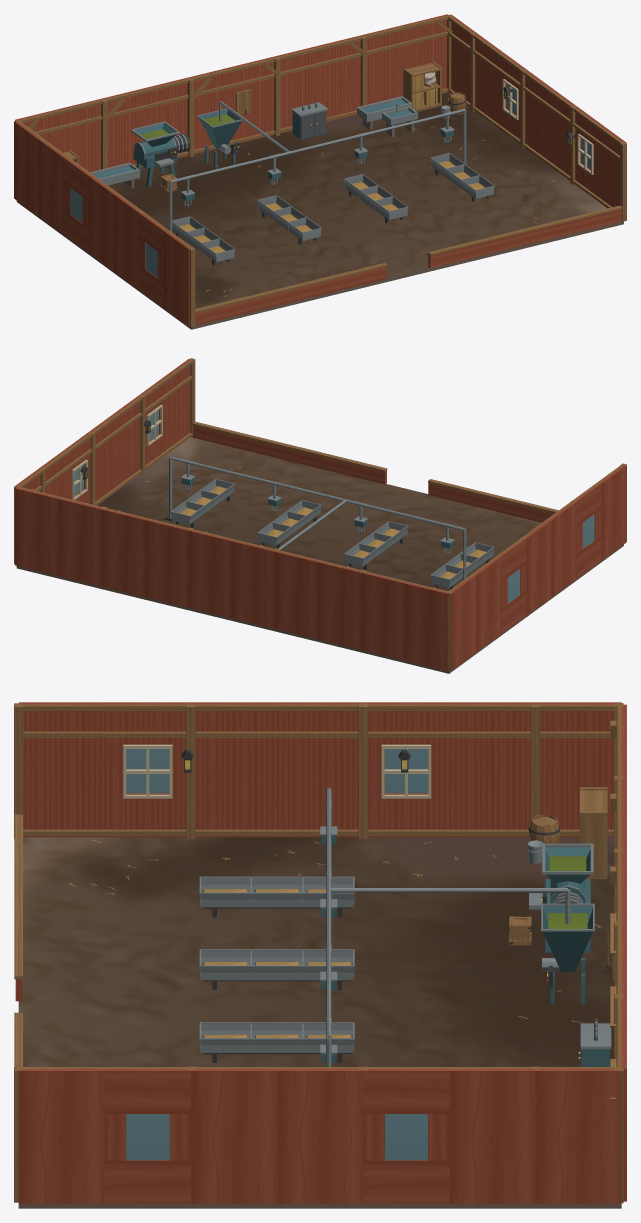
The model's file is BarnInterior_Lv3.fbx.
3 renders of one model, top to bottom at view 1: azimuth 30°, elevation 25°; view 2: azimuth 150°, elevation 25°; view 3: azimuth 270°, elevation 25°, orthographic. The views are drawn at different scales.
Visible parts, largest first — view 1: Lv3_Floor.001, Lv3_FrontCutaway.001, N01_Wall_2m.078, N01_Wall_2m.079, N01_Wall_2m.076, N01_Wall_2m.077, N01_Wall_2m.073, N01_Wall_2m.072, N03_LargeMotor.003, N01_Wall_2m.081, N01_Wall_2m.080, N01_Wall_2m.083 (+33 smaller); view 2: Lv3_Floor.001, Lv3_FrontCutaway.001, N01_Wall_2m.071, N01_Wall_2m.072, N01_Wall_2m.075, N01_Wall_2m.078, N01_Wall_2m.079, N01_Wall_2m.080, N01_Wall_2m.074, N01_Wall_2m.076, N01_Wall_2m.077, N01_Wall_2m.073 (+18 smaller); view 3: Lv3_Floor.001, N01_Wall_2m.086, N01_Wall_2m.089, N01_Wall_2m.088, N01_Wall_2m.087, N01_WindowWall_2m.022, N01_Wall_2m.090, N01_WindowWall_2m.021, N01_Wall_2m.082, N01_Wall_2m.081, N01_Wall_2m.084, N01_WindowWall_2m.019 (+19 smaller).
Part boxes in pixels (left/top/right/bottom): Lv3_Floor.001: left=16, top=93, right=623, bottom=329; Lv3_FrontCutaway.001: left=195, top=205, right=622, bottom=325; N01_Wall_2m.078: left=318, top=35, right=361, bottom=121; N01_Wall_2m.079: left=361, top=24, right=406, bottom=104; N01_Wall_2m.076: left=232, top=56, right=275, bottom=143; N01_Wall_2m.077: left=275, top=46, right=320, bottom=133; N01_Wall_2m.073: left=102, top=88, right=147, bottom=167; N01_Wall_2m.072: left=58, top=98, right=102, bottom=172; N03_LargeMotor.003: left=131, top=121, right=190, bottom=186; N01_Wall_2m.081: left=164, top=230, right=192, bottom=326; N01_Wall_2m.080: left=405, top=14, right=448, bottom=93; N01_Wall_2m.083: left=89, top=175, right=118, bottom=271; Lv3_Floor.001: left=16, top=437, right=623, bottom=673; Lv3_FrontCutaway.001: left=192, top=421, right=558, bottom=522; N01_Wall_2m.071: left=404, top=581, right=448, bottom=670; N01_Wall_2m.072: left=361, top=571, right=406, bottom=660; N01_Wall_2m.075: left=231, top=539, right=275, bottom=628; N01_Wall_2m.078: left=101, top=508, right=147, bottom=596; N01_Wall_2m.079: left=58, top=497, right=102, bottom=586; N01_Wall_2m.080: left=15, top=487, right=60, bottom=575; N01_Wall_2m.074: left=274, top=550, right=319, bottom=639; N01_Wall_2m.076: left=188, top=528, right=233, bottom=617; N01_Wall_2m.077: left=145, top=518, right=188, bottom=607; N01_Wall_2m.073: left=318, top=560, right=361, bottom=649; Lv3_Floor.001: left=18, top=837, right=621, bottom=1208; N01_Wall_2m.086: left=18, top=1067, right=104, bottom=1203; N01_Wall_2m.089: left=449, top=1067, right=535, bottom=1203; N01_Wall_2m.088: left=277, top=1067, right=363, bottom=1203; N01_Wall_2m.087: left=191, top=1067, right=277, bottom=1203; N01_WindowWall_2m.022: left=363, top=1067, right=449, bottom=1203; N01_Wall_2m.090: left=535, top=1067, right=621, bottom=1203; N01_WindowWall_2m.021: left=105, top=1067, right=190, bottom=1203; N01_Wall_2m.082: left=191, top=702, right=277, bottom=837; N01_Wall_2m.081: left=18, top=702, right=104, bottom=837; N01_Wall_2m.084: left=449, top=702, right=535, bottom=837; N01_WindowWall_2m.019: left=105, top=702, right=190, bottom=837.
Size of the model in its own units: 20.26 by 3.58 by 14.23.
